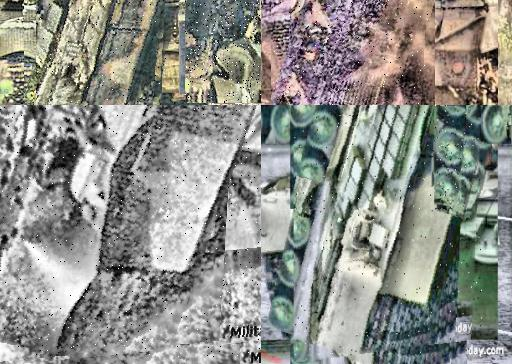tanks: (1, 106, 255, 359), (295, 106, 483, 357), (38, 1, 166, 106), (272, 1, 396, 106), (187, 1, 262, 104), (436, 106, 467, 206)
